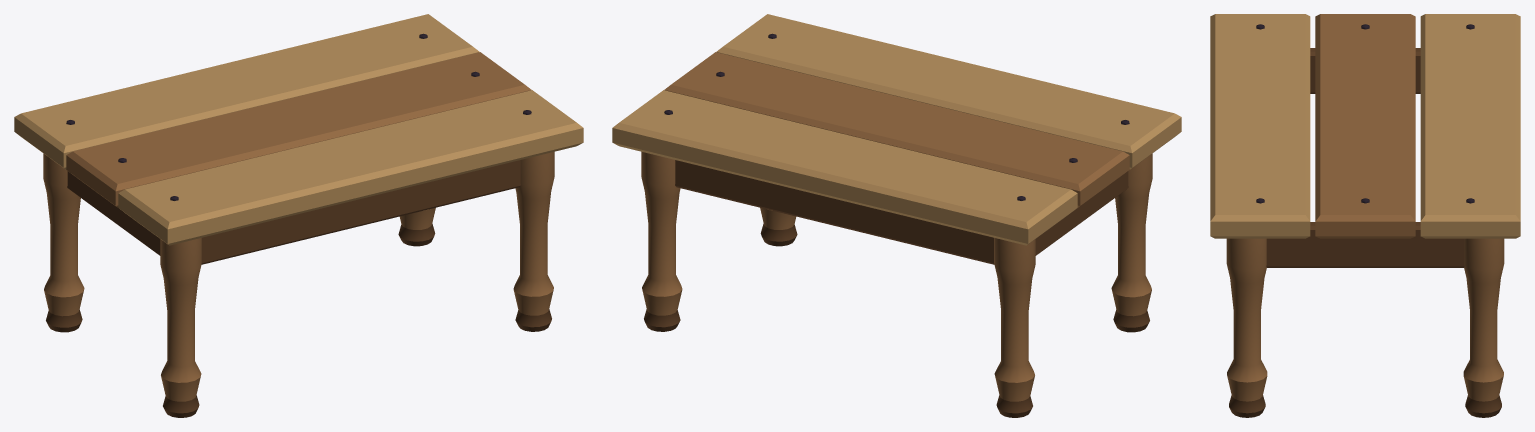
File: Table_11.glb
3 views of the same model, side by side, from view 1: azimuth 30°, elevation 25°; view 2: azimuth 150°, elevation 25°; view 3: azimuth 270°, elevation 25° (orthographic).
Parts seen in each view (by area): view 1: Table_11; view 2: Table_11; view 3: Table_11.
Part boxes in pixels (x1,y1,x2,y2): Table_11: (14, 14, 583, 417); Table_11: (612, 14, 1181, 417); Table_11: (1210, 14, 1520, 417).
Size of the model in its own units: 5.91 by 2.85 by 3.78.
